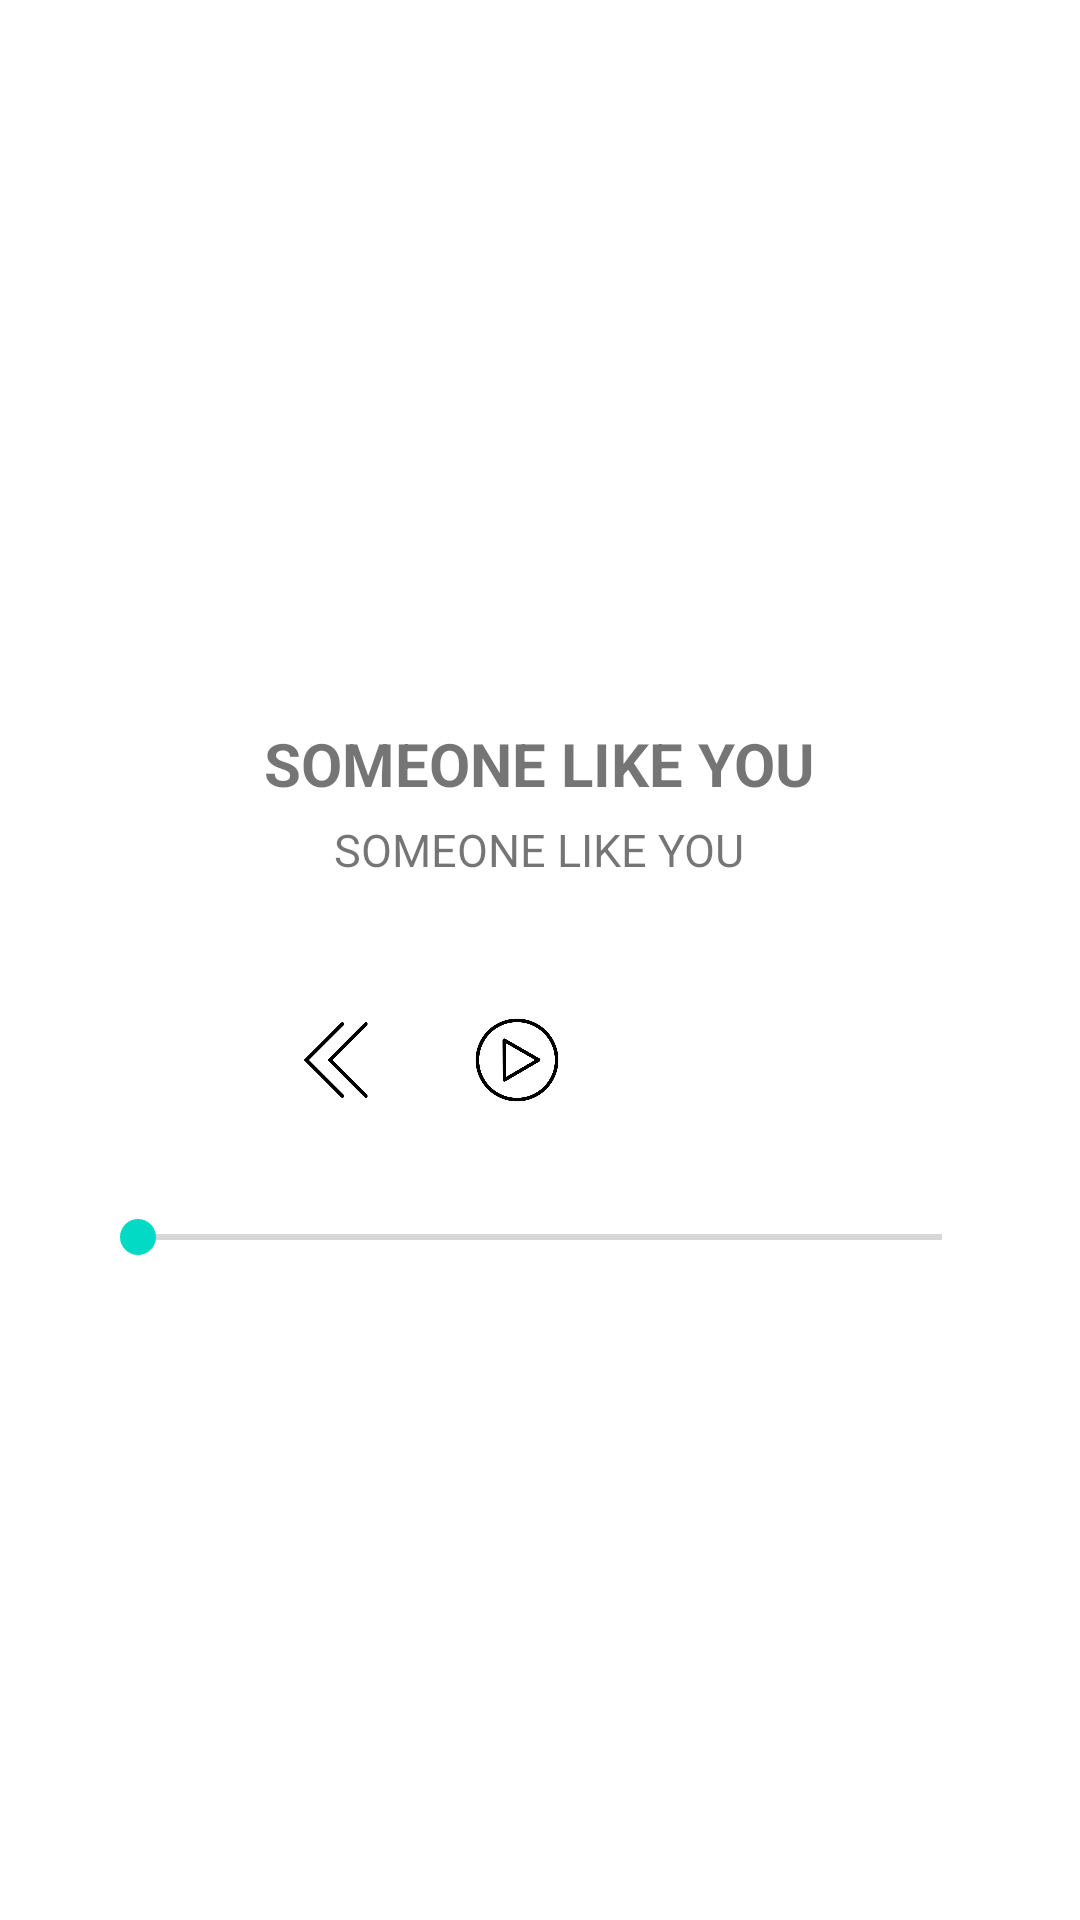

Icon click points for this 1080 × 1920 phone screenshot, format (x=x, y=y):
back: (x=336, y=1060)
play: (x=517, y=1060)
